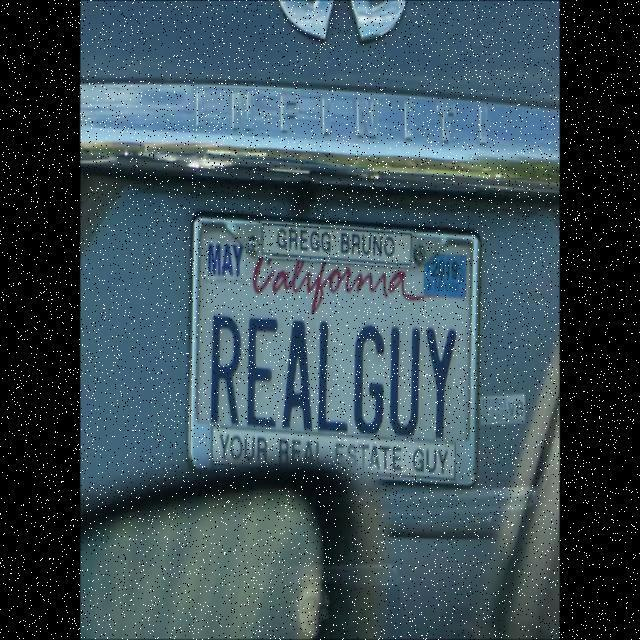LicensePlate: (185, 193, 490, 509)
